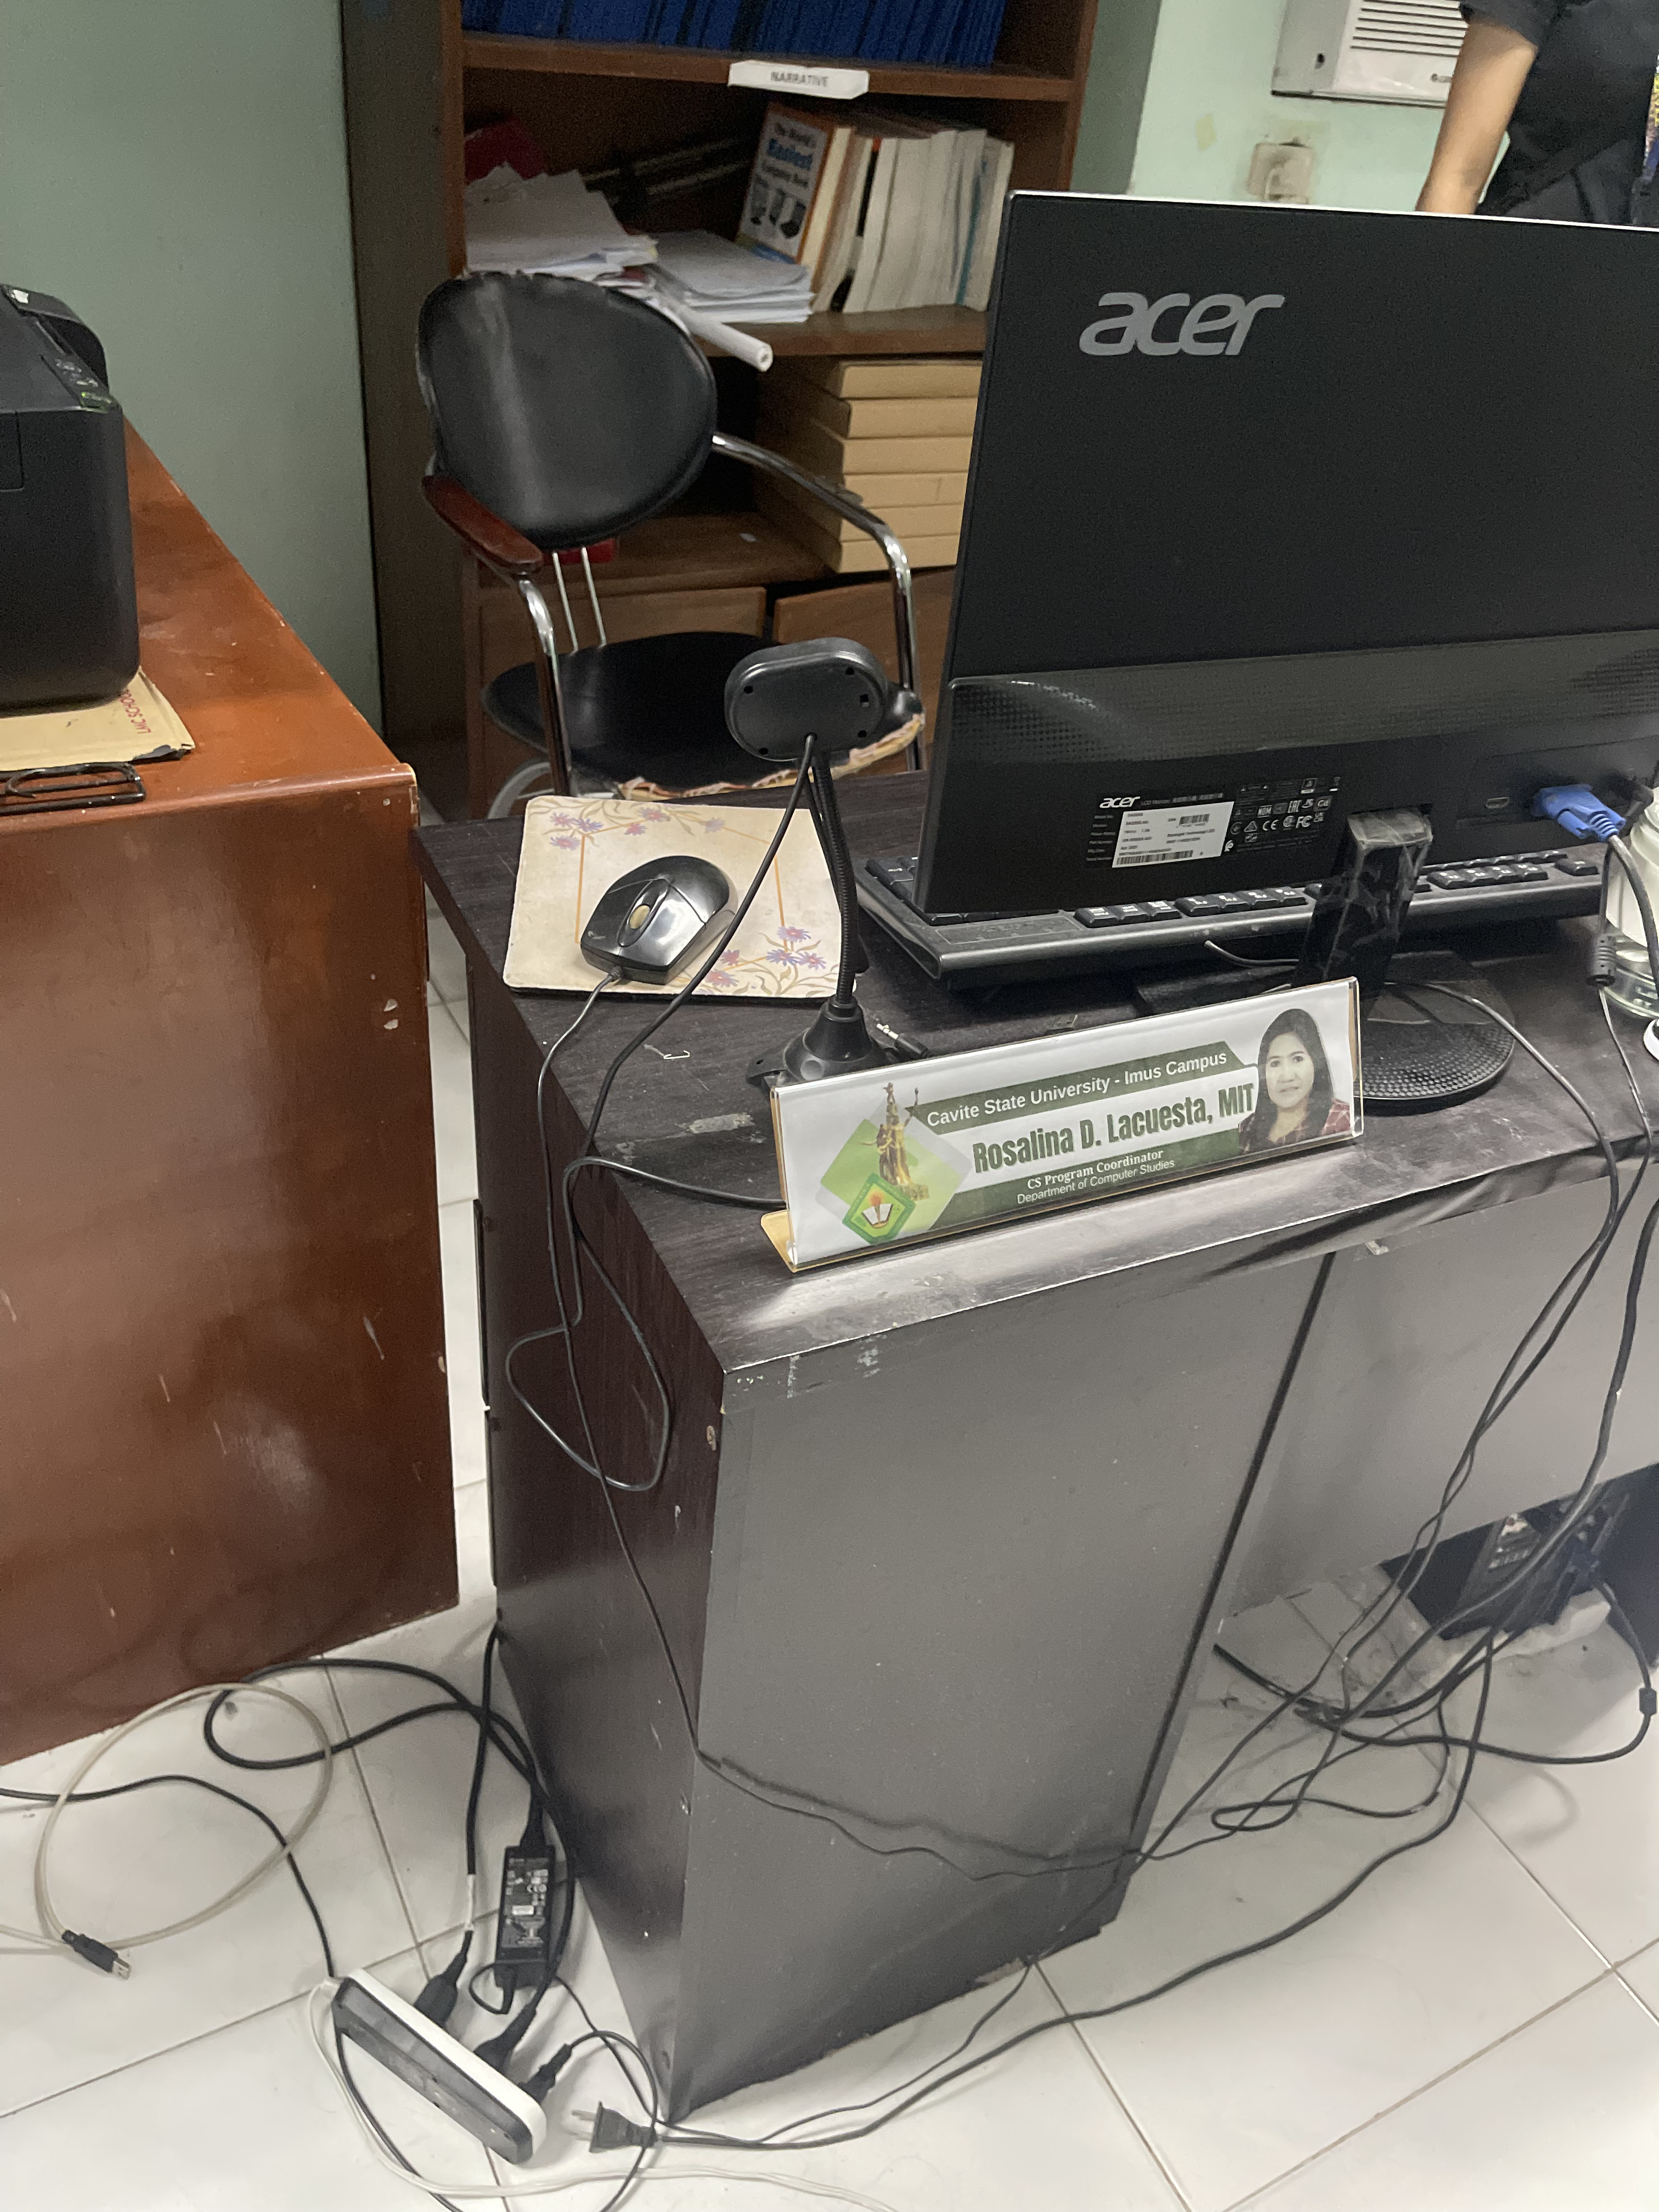table1: (390, 777, 1659, 2141)
